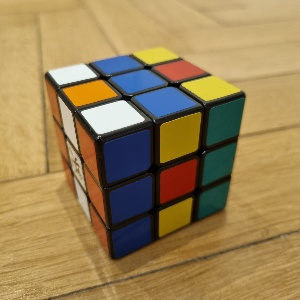cube: (43, 46, 246, 264)
